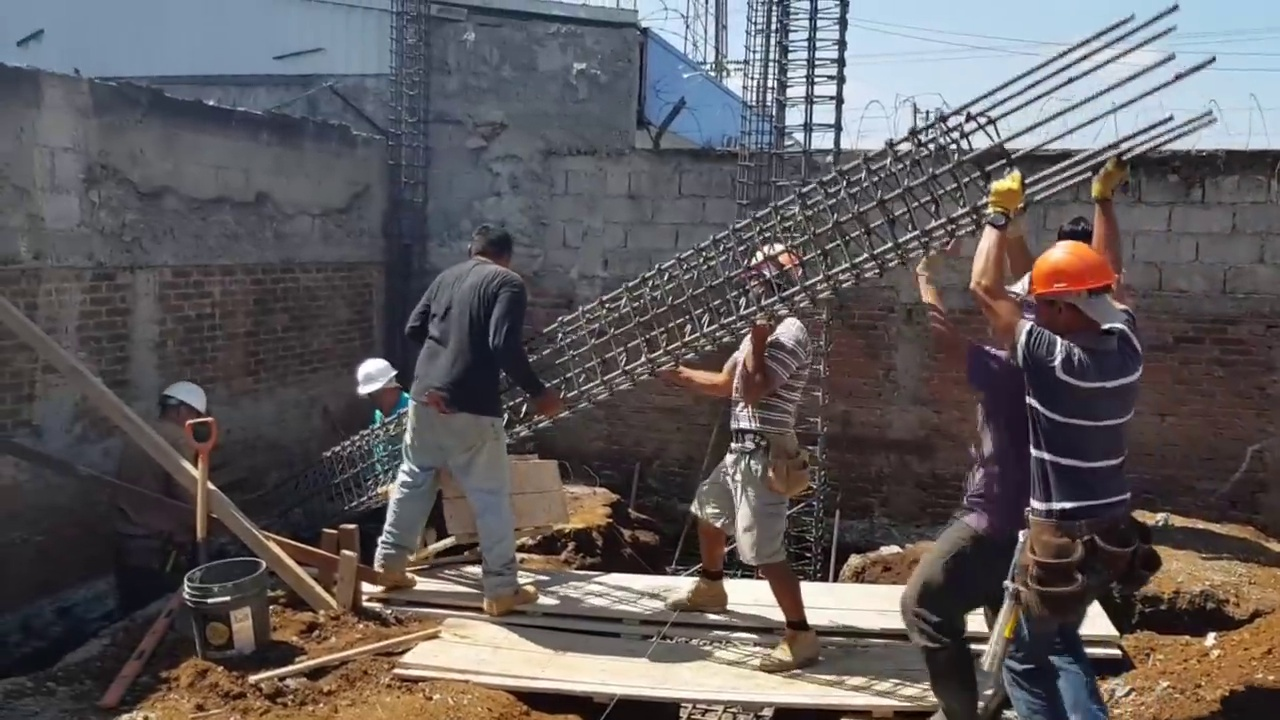helmet: (1028, 242, 1118, 305), (748, 240, 805, 281), (356, 356, 399, 399), (157, 384, 200, 423)
helmet-off: (461, 229, 512, 273), (1061, 221, 1096, 245)
helmet-on: (1034, 239, 1124, 349), (747, 239, 806, 297), (148, 378, 208, 433), (358, 360, 402, 410)
person: (985, 211, 1153, 710), (357, 225, 551, 631), (892, 184, 1033, 717), (676, 233, 818, 659), (109, 363, 222, 620), (972, 166, 1034, 377), (350, 357, 417, 491)
